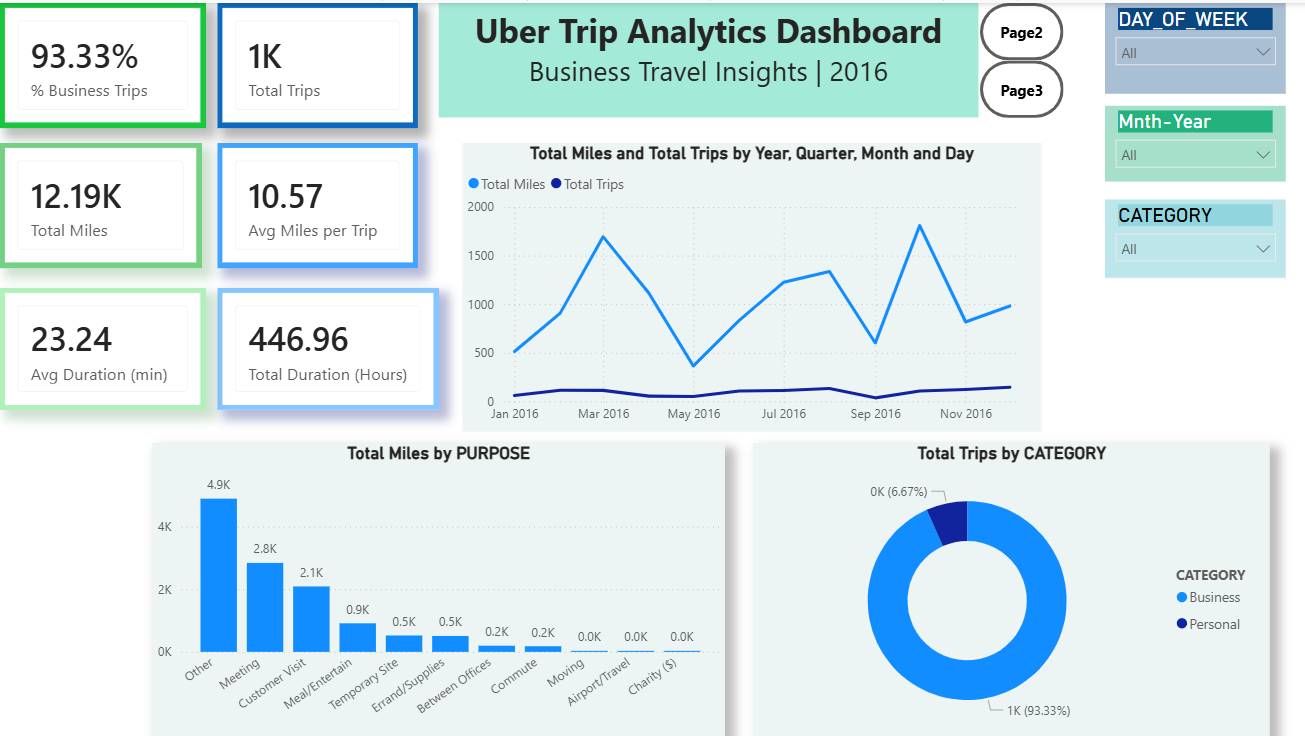

This screenshot's page, from the dashboard's own definition file:
{"tool":"powerbi","page":{"name":"OverView","canvas":[1280,720],"ordinal":0},"visuals":[{"type":"cardVisual","fields":{"Data":["Table1.% Business Trips"]},"box":[0,0,201.7,122.1],"z":0},{"type":"donutChart","fields":{"Category":["Table1.CATEGORY"],"Y":["Table1.Total Trips"]},"box":[736.9,430.9,505,289.5],"z":1000},{"type":"slicer","fields":{"Values":["Table1.Mnth-Year"]},"box":[1081.3,100.2,177,74.1],"z":2000},{"type":"clusteredColumnChart","fields":{"Category":["Table1.PURPOSE"],"Y":["Table1.Total Miles"]},"box":[149.6,430.9,559.9,289.5],"z":3000},{"type":"slicer","fields":{"Values":["Table1.CATEGORY"]},"box":[1081.3,192.1,177,76.8],"z":4000},{"type":"slicer","fields":{"Values":["Table1.DAY_OF_WEEK"]},"box":[1081.3,0,177,89.2],"z":5000},{"type":"lineChart","fields":{"Y":["Table1.Total Miles","Table1.Total Trips"],"Category":["Table1.Mnth-Year.Variation.Date Hierarchy.Year","Table1.Mnth-Year.Variation.Date Hierarchy.Quarter","Table1.Mnth-Year.Variation.Date Hierarchy.Month","Table1.Mnth-Year.Variation.Date Hierarchy.Day"]},"box":[452.8,137.2,566.7,282.7],"z":6000},{"type":"cardVisual","fields":{"Data":["Table1.Total Miles"]},"box":[0,137.2,197.6,122.1],"z":7000},{"type":"cardVisual","fields":{"Data":["Table1.Total Trips"]},"box":[212.7,0,196.2,122.1],"z":8000},{"type":"cardVisual","fields":{"Data":["Table1.Total Duration (Hours)"]},"box":[212.7,278.6,216.8,119.4],"z":9000},{"type":"cardVisual","fields":{"Data":["Table1.Avg Miles per Trip"]},"box":[212.7,137.2,196.2,122.1],"z":10000},{"type":"cardVisual","fields":{"Data":["Table1.Avg Duration (min)"]},"box":[0,278.6,201.7,119.4],"z":11000},{"type":"textbox","box":[428.9,0,527.7,112.3],"z":12000},{"type":"actionButton","box":[958.3,0,81.7,56.2],"z":13000},{"type":"actionButton","box":[958.7,56.3,81.9,56.3],"z":14000}]}

Visuals, with their boxes in screenshot pixels (x1, y1, x2, y2), scaled from the page's 1280x720 canvas onto the 1305x736 screenshot:
cardVisual - Table1.% Business Trips: x1=0, y1=0, x2=206, y2=125
donutChart - Table1.CATEGORY x Table1.Total Trips: x1=751, y1=440, x2=1266, y2=735
slicer - Table1.Mnth-Year: x1=1102, y1=102, x2=1283, y2=178
clusteredColumnChart - Table1.PURPOSE x Table1.Total Miles: x1=153, y1=440, x2=723, y2=735
slicer - Table1.CATEGORY: x1=1102, y1=196, x2=1283, y2=275
slicer - Table1.DAY_OF_WEEK: x1=1102, y1=0, x2=1283, y2=91
lineChart - Table1.Total Miles x Table1.Total Trips: x1=462, y1=140, x2=1039, y2=429
cardVisual - Table1.Total Miles: x1=0, y1=140, x2=201, y2=265
cardVisual - Table1.Total Trips: x1=217, y1=0, x2=417, y2=125
cardVisual - Table1.Total Duration (Hours): x1=217, y1=285, x2=438, y2=407
cardVisual - Table1.Avg Miles per Trip: x1=217, y1=140, x2=417, y2=265
cardVisual - Table1.Avg Duration (min): x1=0, y1=285, x2=206, y2=407
textbox: x1=437, y1=0, x2=975, y2=115
actionButton: x1=977, y1=0, x2=1060, y2=57
actionButton: x1=977, y1=58, x2=1061, y2=115
